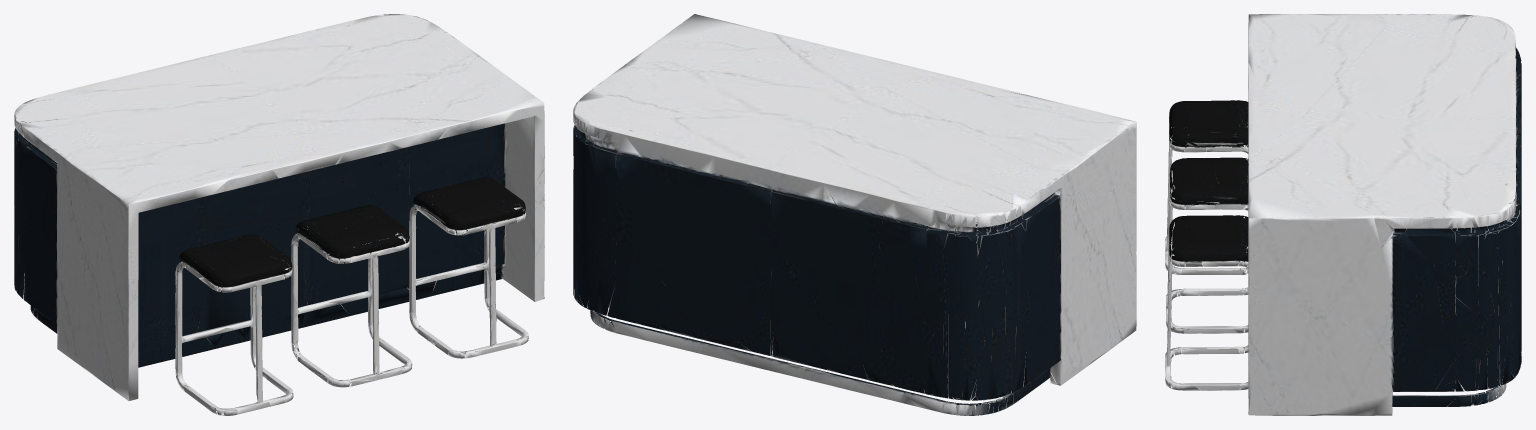
The model's file is kitchen-island.glb.
The picture shows the model from 3 angles, left to right: view 1: azimuth 30°, elevation 25°; view 2: azimuth 150°, elevation 25°; view 3: azimuth 270°, elevation 25°; orthographic projection. The views are drawn at different scales.
Bounding box in the file's own units: 1.9 × 0.8607 × 1.4.
Materials: 1 (1 with a texture image).
